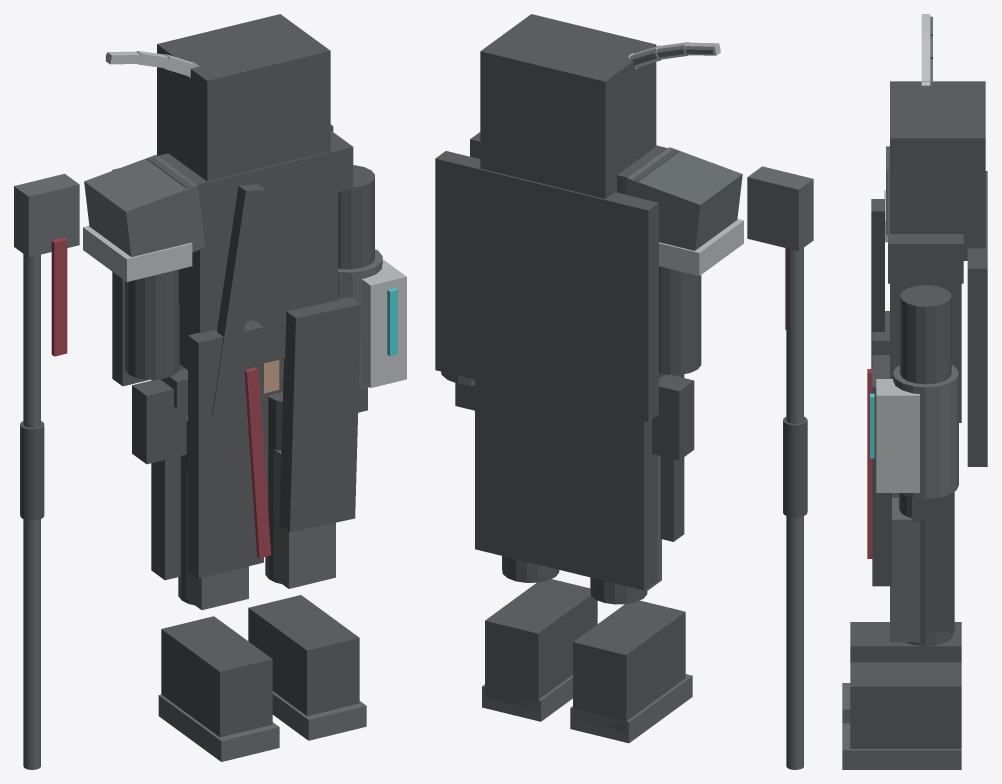
The model's file is ain_outfit_01_Wolha_v01.glb.
3 views of the same model, side by side, from view 1: azimuth 30°, elevation 25°; view 2: azimuth 150°, elevation 25°; view 3: azimuth 270°, elevation 25° (orthographic). The views are drawn at different scales.
Visible parts, largest first — view 1: hood_shell, coat_front_R, torso_shell, coat_front_L, boot_L, boot_R, left_shoulder_plate, scythe_shaft_0, shoulder_yoke, asym_harness_1, sleeve_L, scythe_head_base_0 (+18 smaller); view 2: back_mantle, coat_back, hood_shell, boot_L, boot_R, scythe_shaft_0, left_shoulder_plate, scythe_head_base_0, sleeve_L, pouch_L, boot_sole_L, scythe_grip_0 (+6 smaller); view 3: hood_shell, boot_R, right_gauntlet, sleeve_R, back_mantle, right_gauntlet_spine, shoulder_yoke, shin_plate_R, coat_back, boot_L, coat_front_R, boot_sole_R (+8 smaller).
Part boxes in pixels (<box>): hood_shell: <box>157,14,330,181</box>; coat_front_R: <box>279,296,361,532</box>; torso_shell: <box>179,192,337,369</box>; coat_front_L: <box>188,320,263,578</box>; boot_L: <box>161,616,272,737</box>; boot_R: <box>248,595,359,715</box>; left_shoulder_plate: <box>84,155,205,256</box>; scythe_shaft_0: <box>23,254,40,769</box>; shoulder_yoke: <box>147,130,353,225</box>; asym_harness_1: <box>212,184,265,416</box>; sleeve_L: <box>125,269,178,379</box>; scythe_head_base_0: <box>14,173,79,257</box>; back_mantle: <box>435,151,658,421</box>; coat_back: <box>475,380,657,590</box>; hood_shell: <box>480,14,656,198</box>; boot_L: <box>573,600,685,731</box>; boot_R: <box>485,579,597,710</box>; scythe_shaft_0: <box>786,248,803,769</box>; left_shoulder_plate: <box>625,147,742,250</box>; scythe_head_base_0: <box>747,166,813,251</box>; sleeve_L: <box>659,266,701,374</box>; pouch_L: <box>652,374,694,460</box>; boot_sole_L: <box>570,674,692,743</box>; scythe_grip_0: <box>783,416,807,517</box>; hood_shell: <box>890,81,985,260</box>; boot_R: <box>850,662,961,748</box>; right_gauntlet: <box>893,365,958,498</box>; sleeve_R: <box>900,285,951,384</box>; back_mantle: <box>967,171,987,466</box>; right_gauntlet_spine: <box>876,379,919,492</box>; shoulder_yoke: <box>888,166,963,283</box>; shin_plate_R: <box>890,497,919,642</box>; coat_back: <box>929,365,954,631</box>; boot_L: <box>850,622,961,662</box>; coat_front_R: <box>872,355,891,586</box>; boot_sole_R: <box>842,723,961,769</box>.
Bounding box in the file's own units: 0.99 × 1.83 × 0.365.
